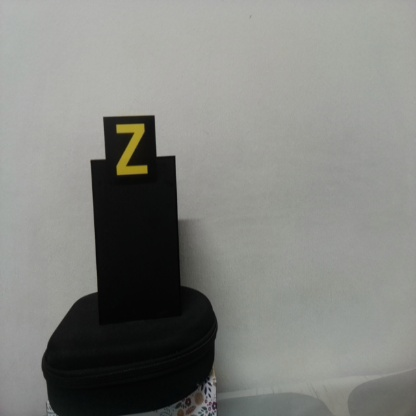id_15: (103, 117, 157, 185)
